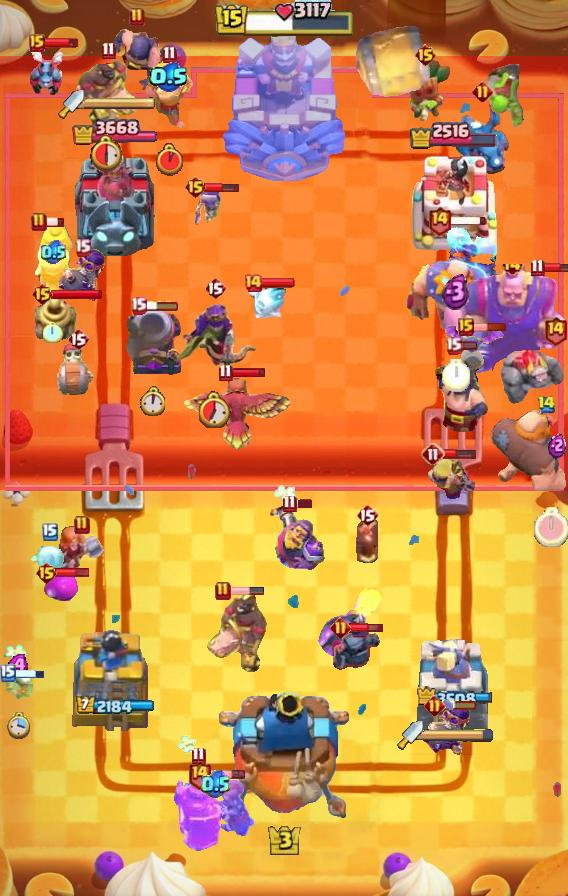bar: (51, 288, 103, 300), (349, 621, 384, 634), (442, 699, 478, 711), (144, 300, 180, 312), (260, 277, 296, 289), (43, 37, 79, 49), (209, 769, 246, 780), (230, 367, 267, 378), (450, 215, 487, 226), (443, 448, 476, 460), (204, 182, 240, 193), (10, 668, 45, 679), (55, 567, 90, 578), (229, 586, 265, 596), (472, 322, 507, 332), (542, 262, 568, 273), (45, 216, 65, 228), (294, 498, 314, 509), (459, 340, 478, 351)
bar-level: (187, 759, 212, 790), (543, 315, 568, 346), (427, 205, 452, 236), (421, 442, 445, 466), (35, 561, 58, 585), (31, 282, 54, 306), (184, 175, 207, 199), (414, 43, 437, 67), (356, 503, 378, 527), (67, 327, 89, 351), (204, 276, 226, 300), (424, 695, 445, 716), (330, 617, 351, 638), (472, 81, 493, 102), (243, 273, 263, 293), (537, 395, 556, 414), (445, 336, 462, 355), (130, 296, 147, 315), (74, 238, 91, 257), (215, 581, 231, 601), (74, 515, 90, 535), (31, 212, 47, 232), (129, 7, 145, 27), (0, 664, 16, 682), (42, 523, 58, 541), (458, 318, 474, 336), (29, 34, 45, 52), (191, 746, 206, 765), (282, 494, 297, 513), (218, 363, 233, 382), (530, 258, 545, 277), (162, 45, 177, 64), (101, 41, 116, 60)
barbarian-evolution: (424, 450, 475, 502)
bat-evolution: (443, 324, 509, 354)
bomb: (317, 586, 389, 660)
bomber-evolution: (422, 702, 472, 756), (57, 248, 107, 302)
clock: (90, 133, 126, 172), (534, 507, 568, 547), (199, 391, 231, 428), (442, 359, 470, 392), (156, 143, 183, 176), (139, 386, 165, 416), (7, 712, 31, 740), (43, 321, 63, 343)
dagger-duchess-tower: (70, 142, 158, 256), (416, 637, 490, 731)
dagger-duchess-tower-bar: (423, 728, 495, 742), (84, 97, 156, 111)
dart-goblin: (396, 60, 454, 126)
electro-dragon: (453, 102, 511, 176)
elixir: (149, 62, 189, 92), (442, 273, 470, 310), (201, 770, 230, 799), (41, 240, 66, 265), (7, 654, 31, 676), (548, 433, 566, 458)
elixir-golem-small: (43, 573, 79, 603)
executioner: (433, 347, 491, 433), (111, 27, 163, 99)
fire-spirit: (354, 517, 380, 567)
goblin-ball: (482, 64, 532, 130)
golemite: (500, 344, 568, 404)
ice-spirit: (246, 284, 288, 320), (29, 546, 71, 580)
king-tower: (220, 21, 348, 181), (219, 692, 349, 826)
king-tower-bar: (213, 0, 355, 40)
knight-evolution: (269, 504, 328, 571)
mini-pekka: (329, 629, 381, 673)
minion: (28, 47, 66, 97)
mortar-evolution: (120, 308, 184, 378)
queen-tower: (64, 621, 164, 731), (407, 150, 499, 256)
ram-rider: (32, 218, 74, 300)
skeleton: (2, 670, 36, 702)
skeleton-evolution: (192, 184, 224, 226)
tower-bar: (72, 116, 157, 149), (408, 120, 498, 150), (415, 686, 492, 708), (75, 696, 154, 716)
valkyrie: (57, 526, 107, 574)
valkyrie-evolution: (175, 774, 256, 839)
wall-breaker: (53, 342, 103, 398)
zappy: (31, 294, 79, 344)
